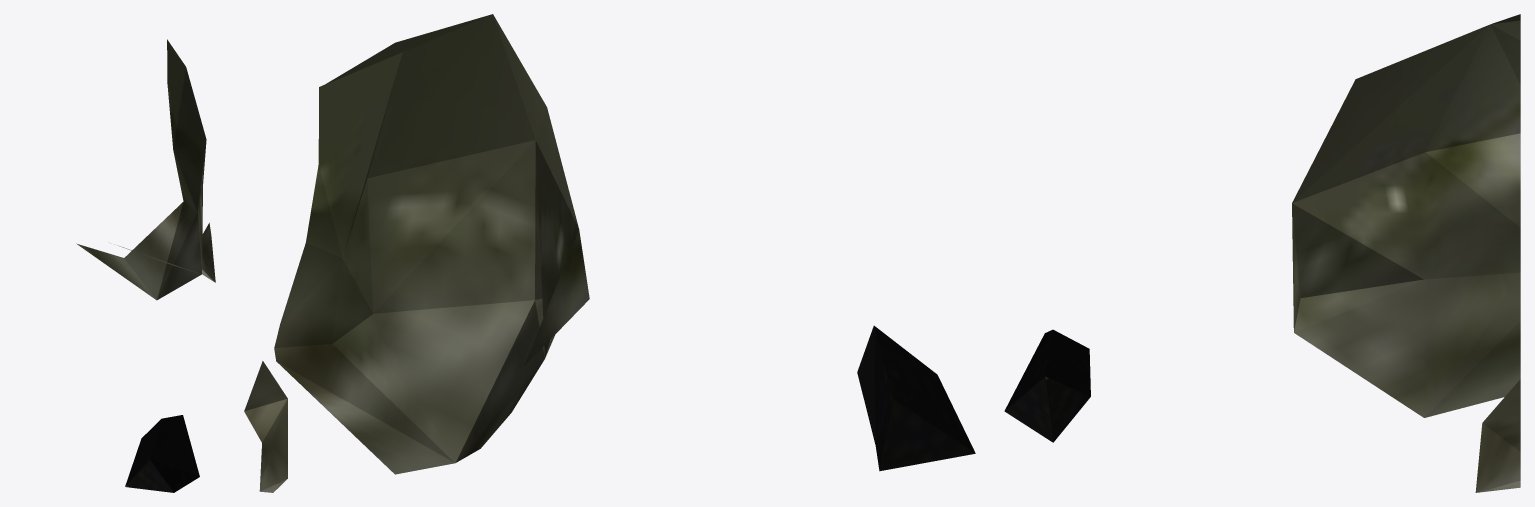
3 renders of one model, left to right at view 1: azimuth 30°, elevation 25°; view 2: azimuth 150°, elevation 25°; view 3: azimuth 270°, elevation 25°, orthographic. The views are drawn at different scales.
Size of the model in its own units: 0.5197 by 0.6649 by 0.6462.
Materials: 1 (1 with a texture image).
